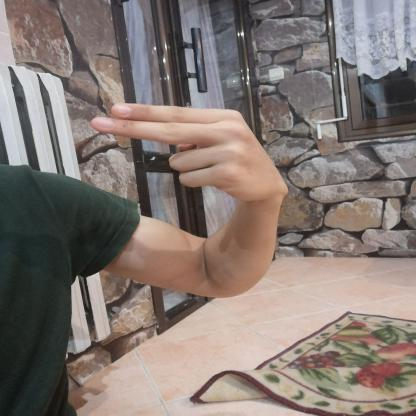AYN: (79, 91, 294, 210)
